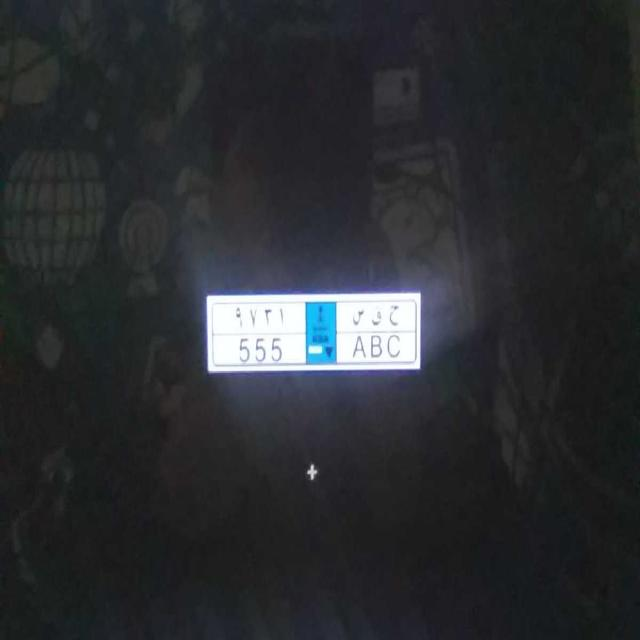license_plate: (228, 329, 408, 366)
